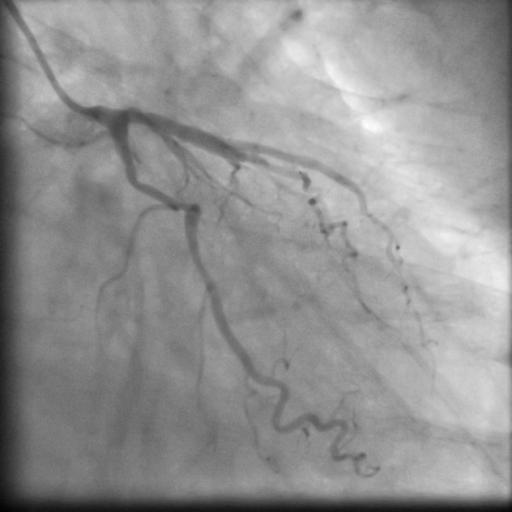Stenosis: (162, 187, 197, 216)
